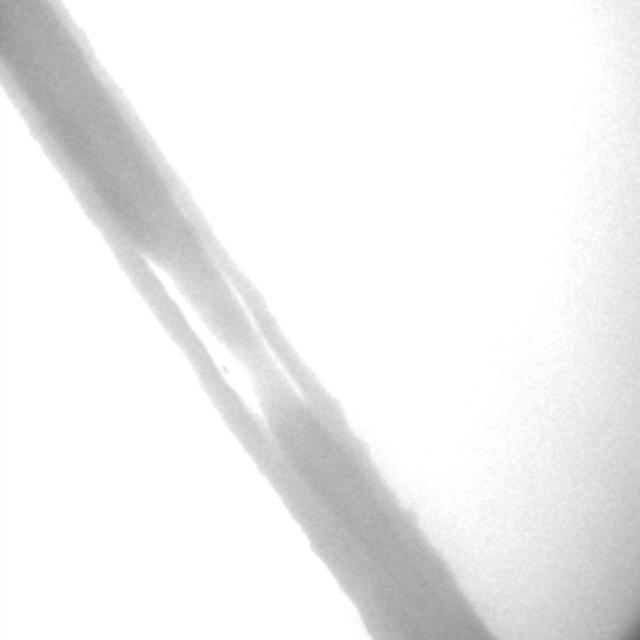unfused: (141, 251, 308, 431)
